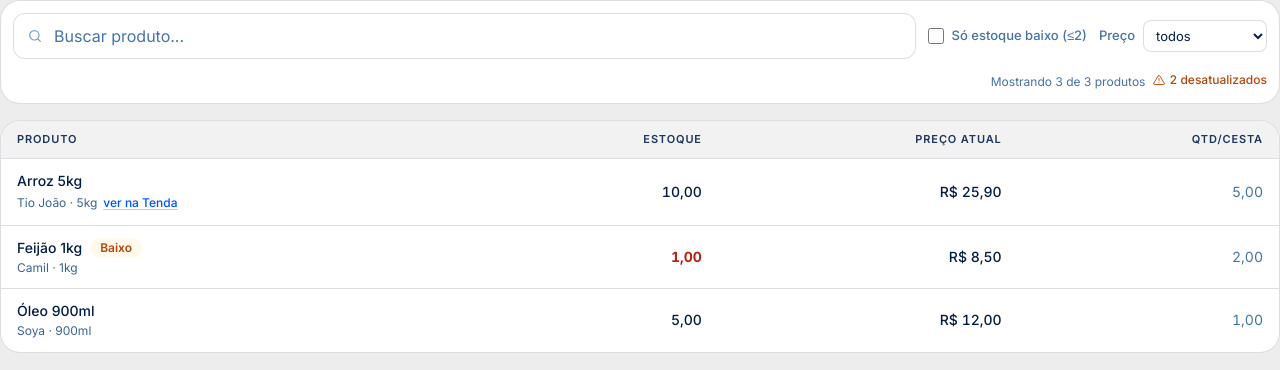
Test case: EstoqueClient › filtra produtos por busca no nome
In the field named "buscar por nome ou marca": (464, 36) [13,13,916,59], type "Arroz"
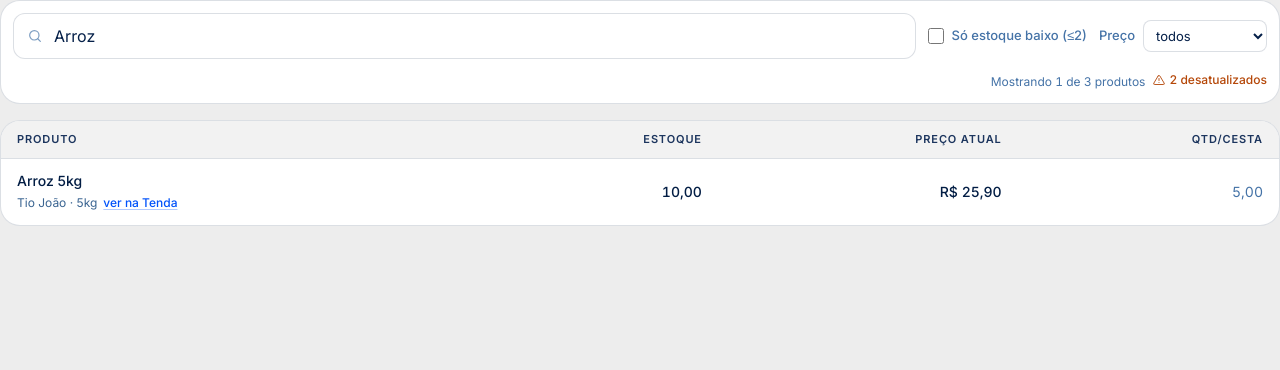
Check: the text "Arroz 5kg" is shown, box [17,170,82,190]
Check: the text "Feijão 1kg" is gone
Check: the text "Óleo 900ml" is gone
